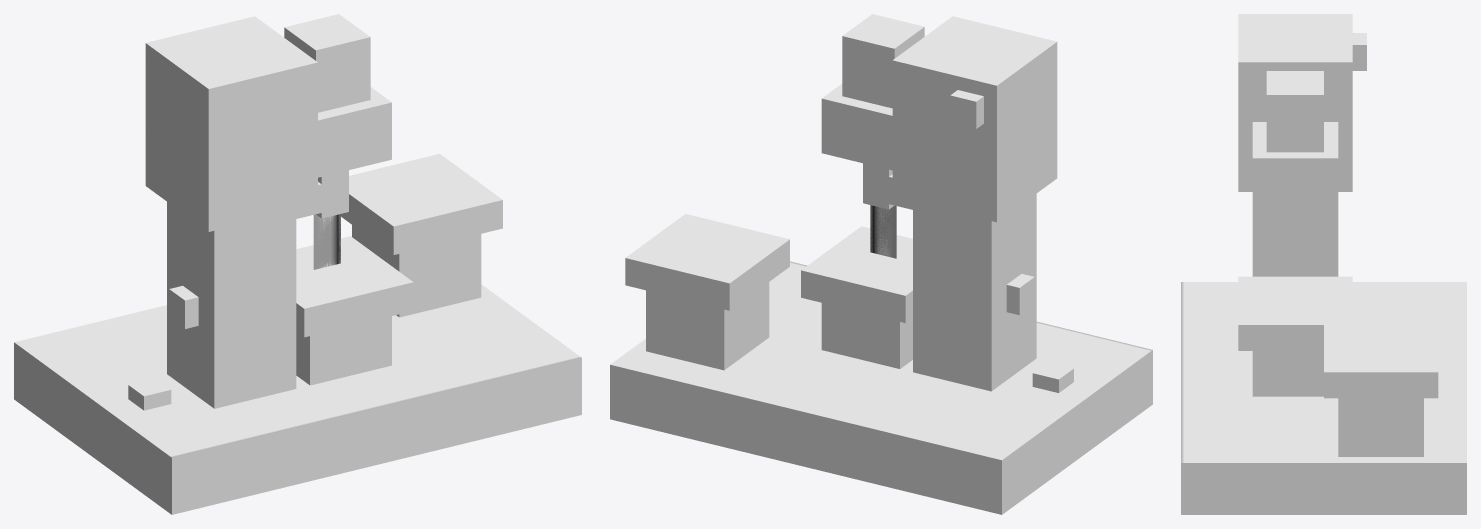
The model's file is embryonic_machine.obj.
3 views of the same model, side by side, from view 1: azimuth 30°, elevation 25°; view 2: azimuth 150°, elevation 25°; view 3: azimuth 270°, elevation 25° (orthographic). The views are drawn at different scales.
Visible parts, largest first — view 1: machine; view 2: machine; view 3: machine.
Boxes of the visible parts, x1,y1,x2,y2 form: machine: (14, 14, 581, 514); machine: (610, 14, 1152, 514); machine: (1181, 14, 1466, 514).
Bounding box in the file's own units: 0.9375 × 0.8438 × 0.625.
